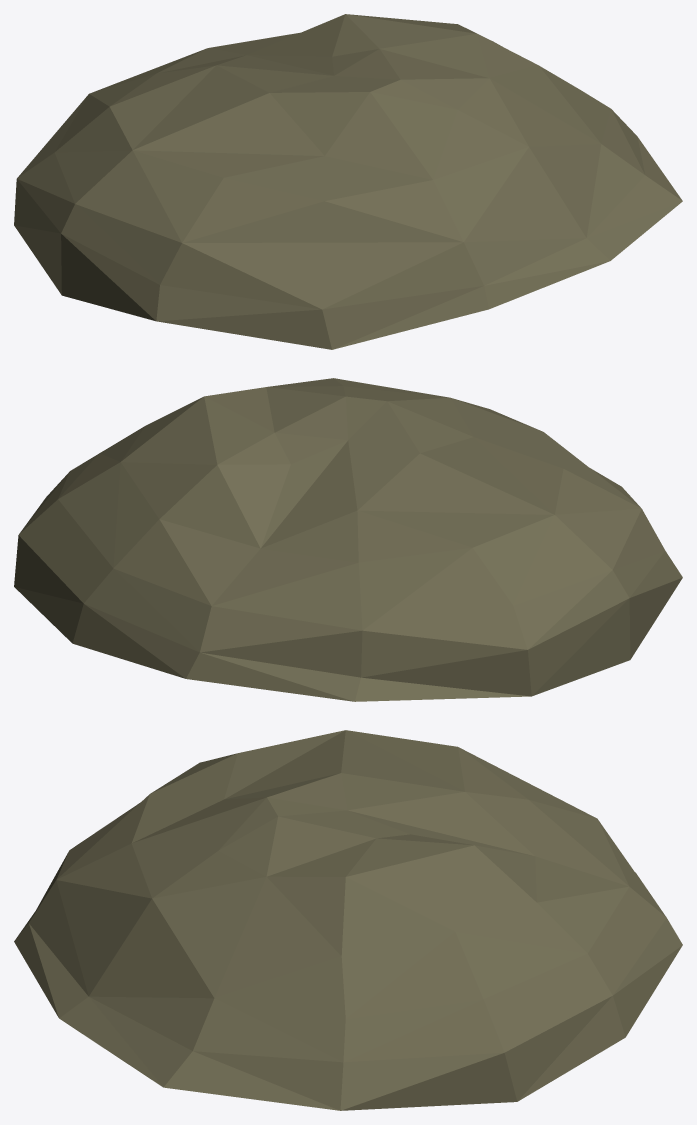
File: M_Sem04_Prop_TrashPile_SBoewing.fbx
3 views of the same model, one above another, from view 1: azimuth 30°, elevation 25°; view 2: azimuth 150°, elevation 25°; view 3: azimuth 270°, elevation 25° (orthographic). The views are drawn at different scales.
Parts seen in each view (by area): view 1: pSphere1; view 2: pSphere1; view 3: pSphere1.
Part boxes in pixels (box(x1,y1,x2,y2)): pSphere1: box(14, 14, 682, 349); pSphere1: box(14, 378, 682, 701); pSphere1: box(14, 730, 682, 1110).
Bounding box in the file's own units: 41.45 × 11.18 × 38.62.
